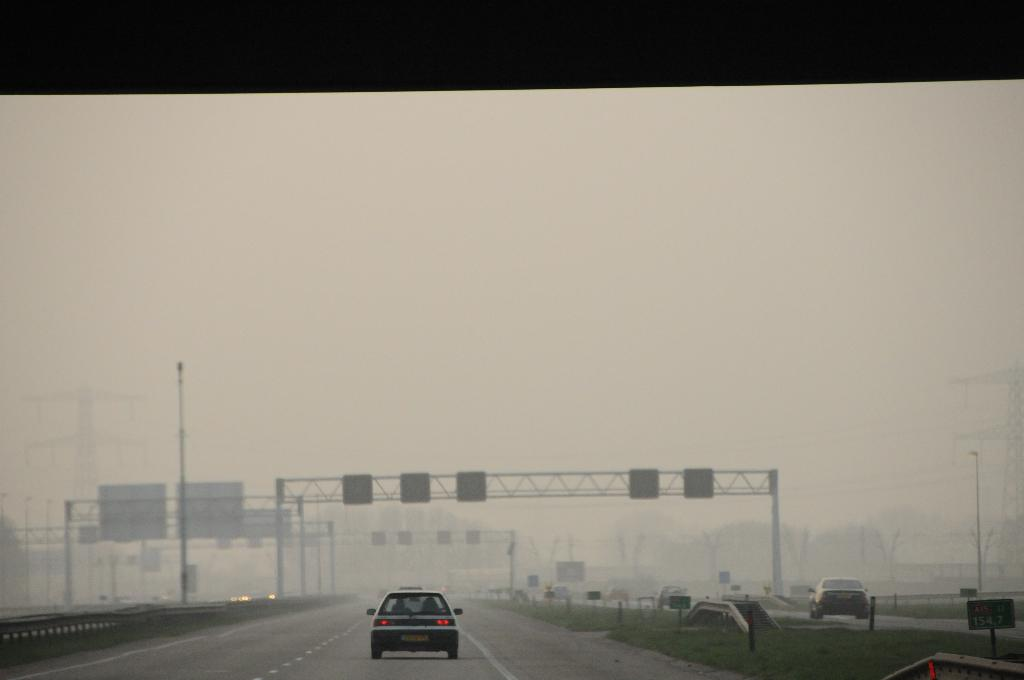Car: (362, 598, 468, 667), (810, 585, 866, 618)
